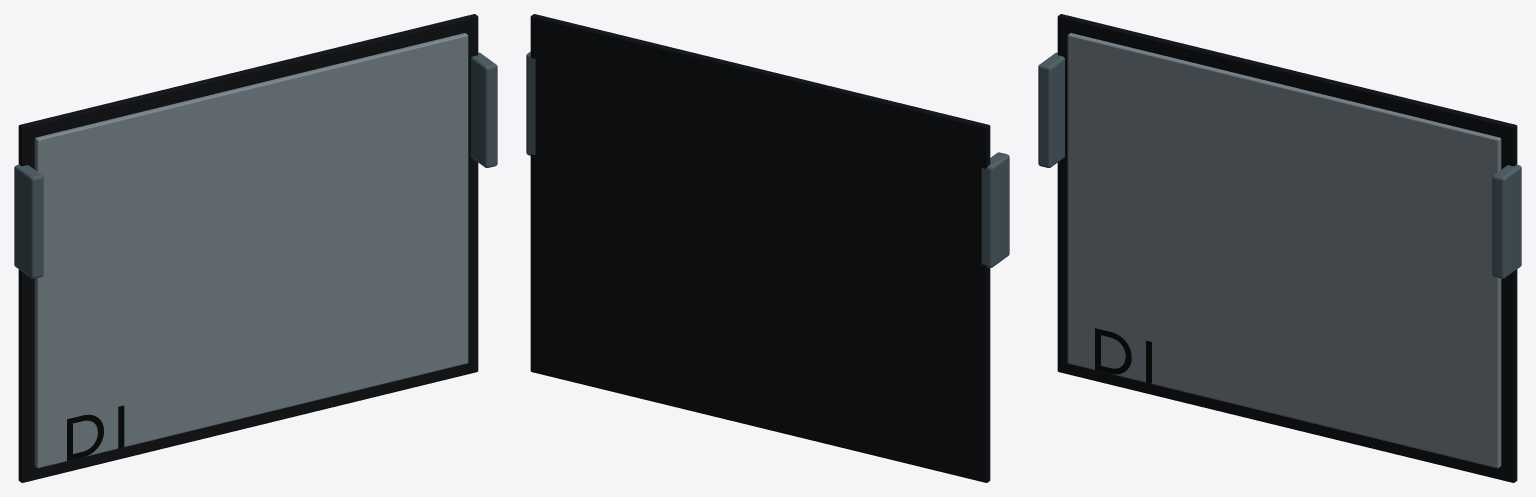
Rendered from slot_d1.obj.
3 views of the same model, side by side, from view 1: azimuth 30°, elevation 25°; view 2: azimuth 150°, elevation 25°; view 3: azimuth 330°, elevation 25° (orthographic).
Visible parts, largest first — view 1: flex__slot_d1__insert, flex__slot_d1__recess, flex__slot_d1__locator, flex__slot_d1__locator.001, flex__slot_d1__id; view 2: flex__slot_d1__recess, flex__slot_d1__locator, flex__slot_d1__locator.001; view 3: flex__slot_d1__insert, flex__slot_d1__recess, flex__slot_d1__locator.001, flex__slot_d1__locator, flex__slot_d1__id.
Part boxes in pixels (box(x1,y1,x2,y2)): flex__slot_d1__insert: box(34, 33, 468, 468); flex__slot_d1__recess: box(18, 14, 478, 482); flex__slot_d1__locator: box(14, 164, 43, 278); flex__slot_d1__locator.001: box(471, 52, 497, 167); flex__slot_d1__id: box(67, 405, 124, 460); flex__slot_d1__recess: box(530, 14, 990, 482); flex__slot_d1__locator: box(981, 152, 1009, 267); flex__slot_d1__locator.001: box(526, 51, 535, 155); flex__slot_d1__insert: box(1067, 33, 1501, 468); flex__slot_d1__recess: box(1057, 14, 1517, 482); flex__slot_d1__locator.001: box(1492, 164, 1521, 278); flex__slot_d1__locator: box(1038, 52, 1064, 167); flex__slot_d1__id: box(1095, 328, 1151, 383).
Bounding box in the file's own units: 0.144 × 0.105 × 0.01.
